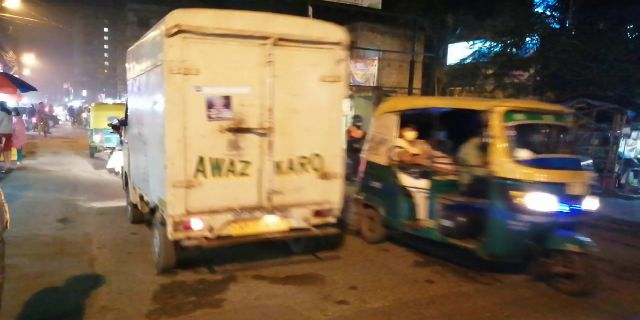Autorickshaw: (368, 85, 599, 290)
Minitruck: (131, 9, 354, 255)
